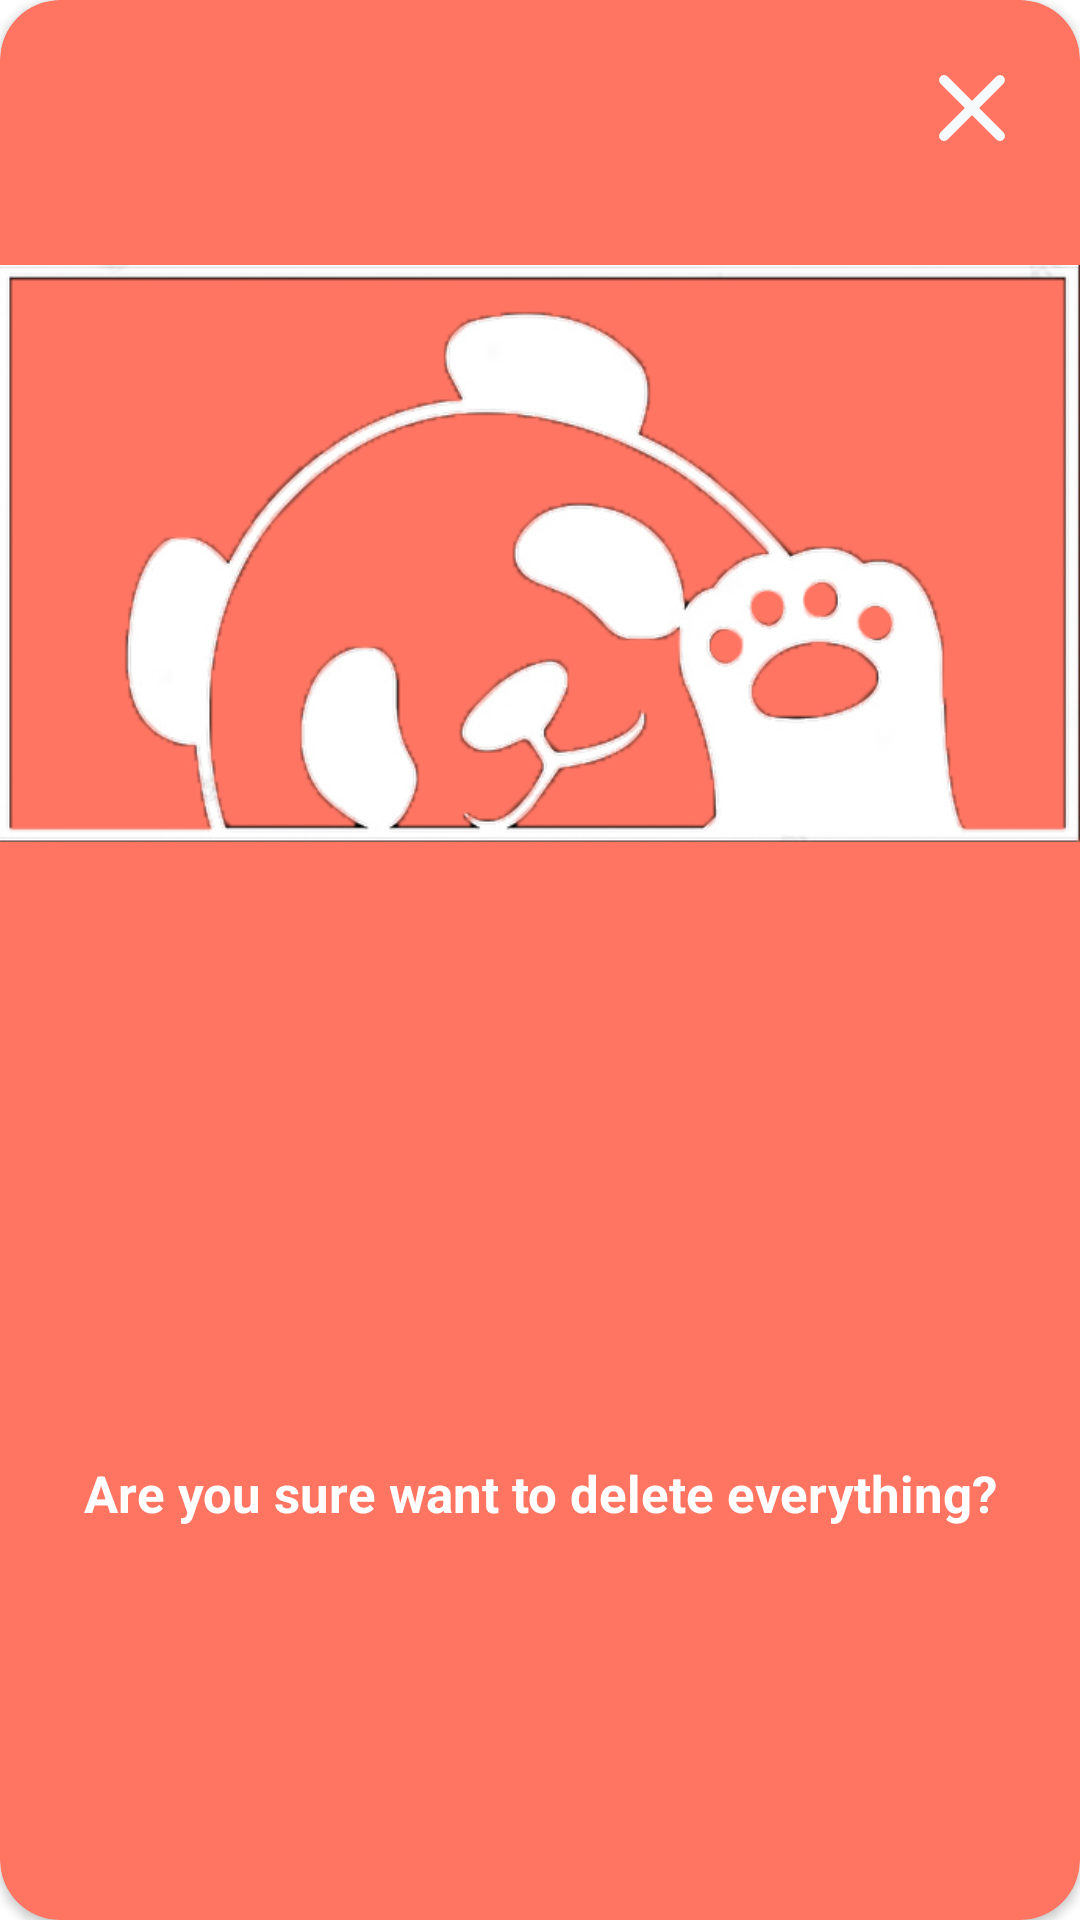

Where to tap for icons on this 1080x1920 app screen, as [x,y]:
close: [972,108]
